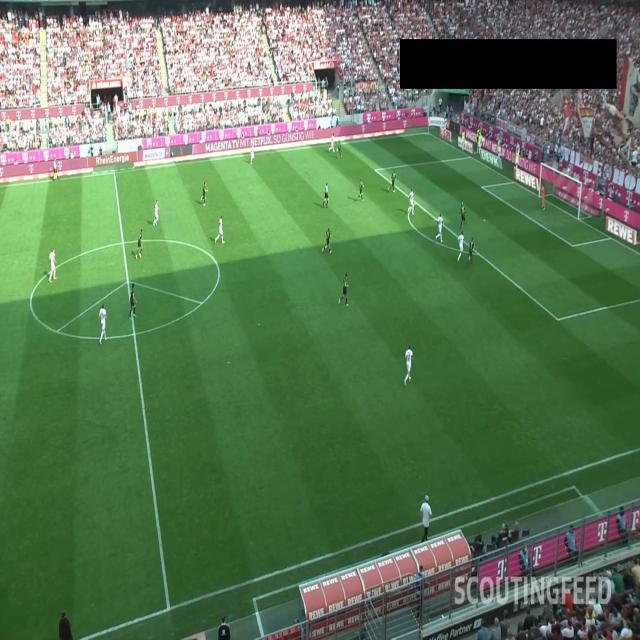ball: (336, 148, 339, 152)
